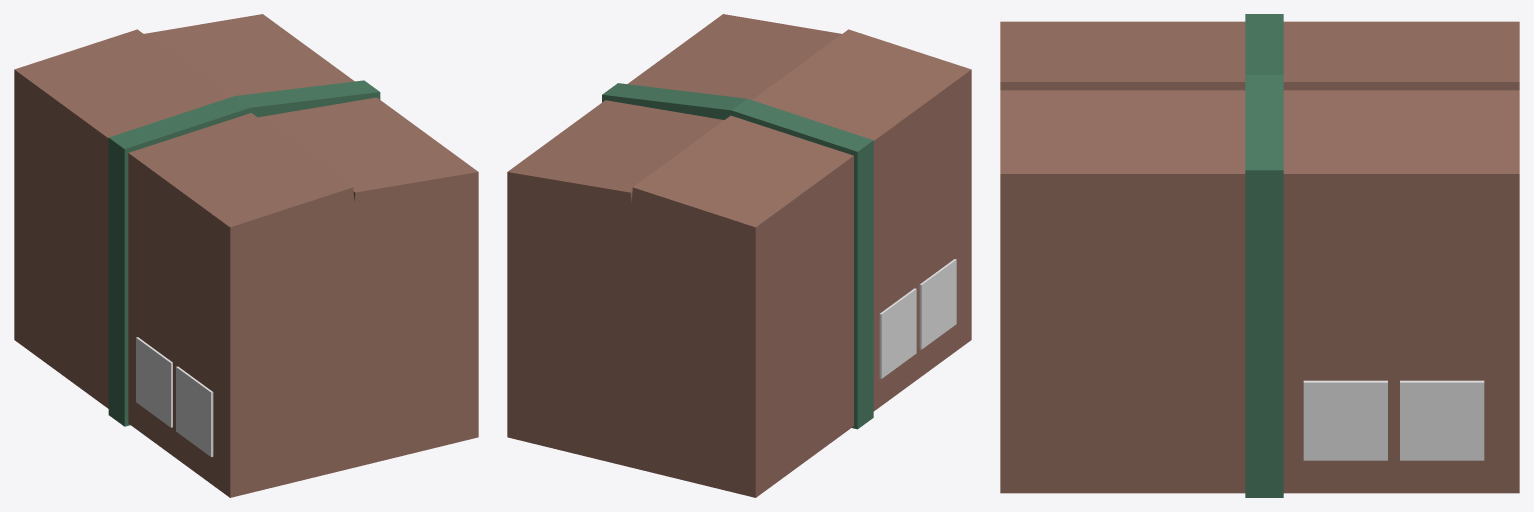
3 views of the same model, side by side, from view 1: azimuth 30°, elevation 25°; view 2: azimuth 150°, elevation 25°; view 3: azimuth 270°, elevation 25° (orthographic). The views are drawn at different scales.
Parts seen in each view (by area): view 1: Box_2_mesh; view 2: Box_2_mesh; view 3: Box_2_mesh.
Boxes of the visible parts, bbox=[...] form: Box_2_mesh: bbox=[14, 14, 478, 497]; Box_2_mesh: bbox=[507, 14, 971, 497]; Box_2_mesh: bbox=[1000, 14, 1519, 497].
Size of the model in its own units: 0.5304 by 0.5712 by 0.7752.
1 material, 1 textured.
